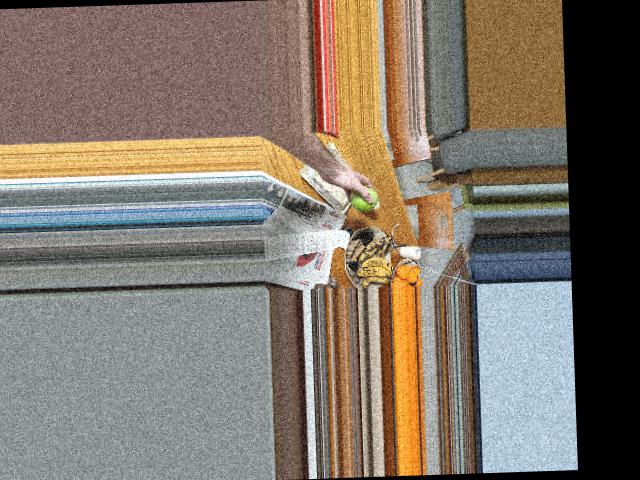apple: (348, 185, 378, 212)
